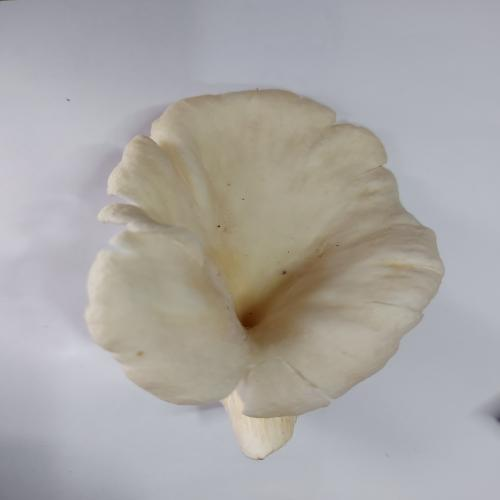Oyster Mushroom: (83, 87, 445, 461)
